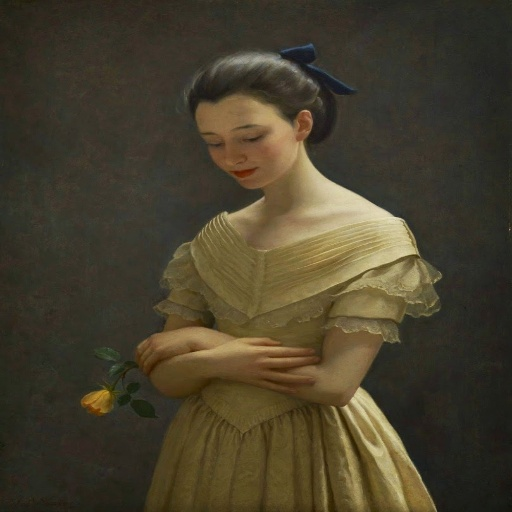hand: (177, 324, 341, 397), (132, 325, 201, 376)
